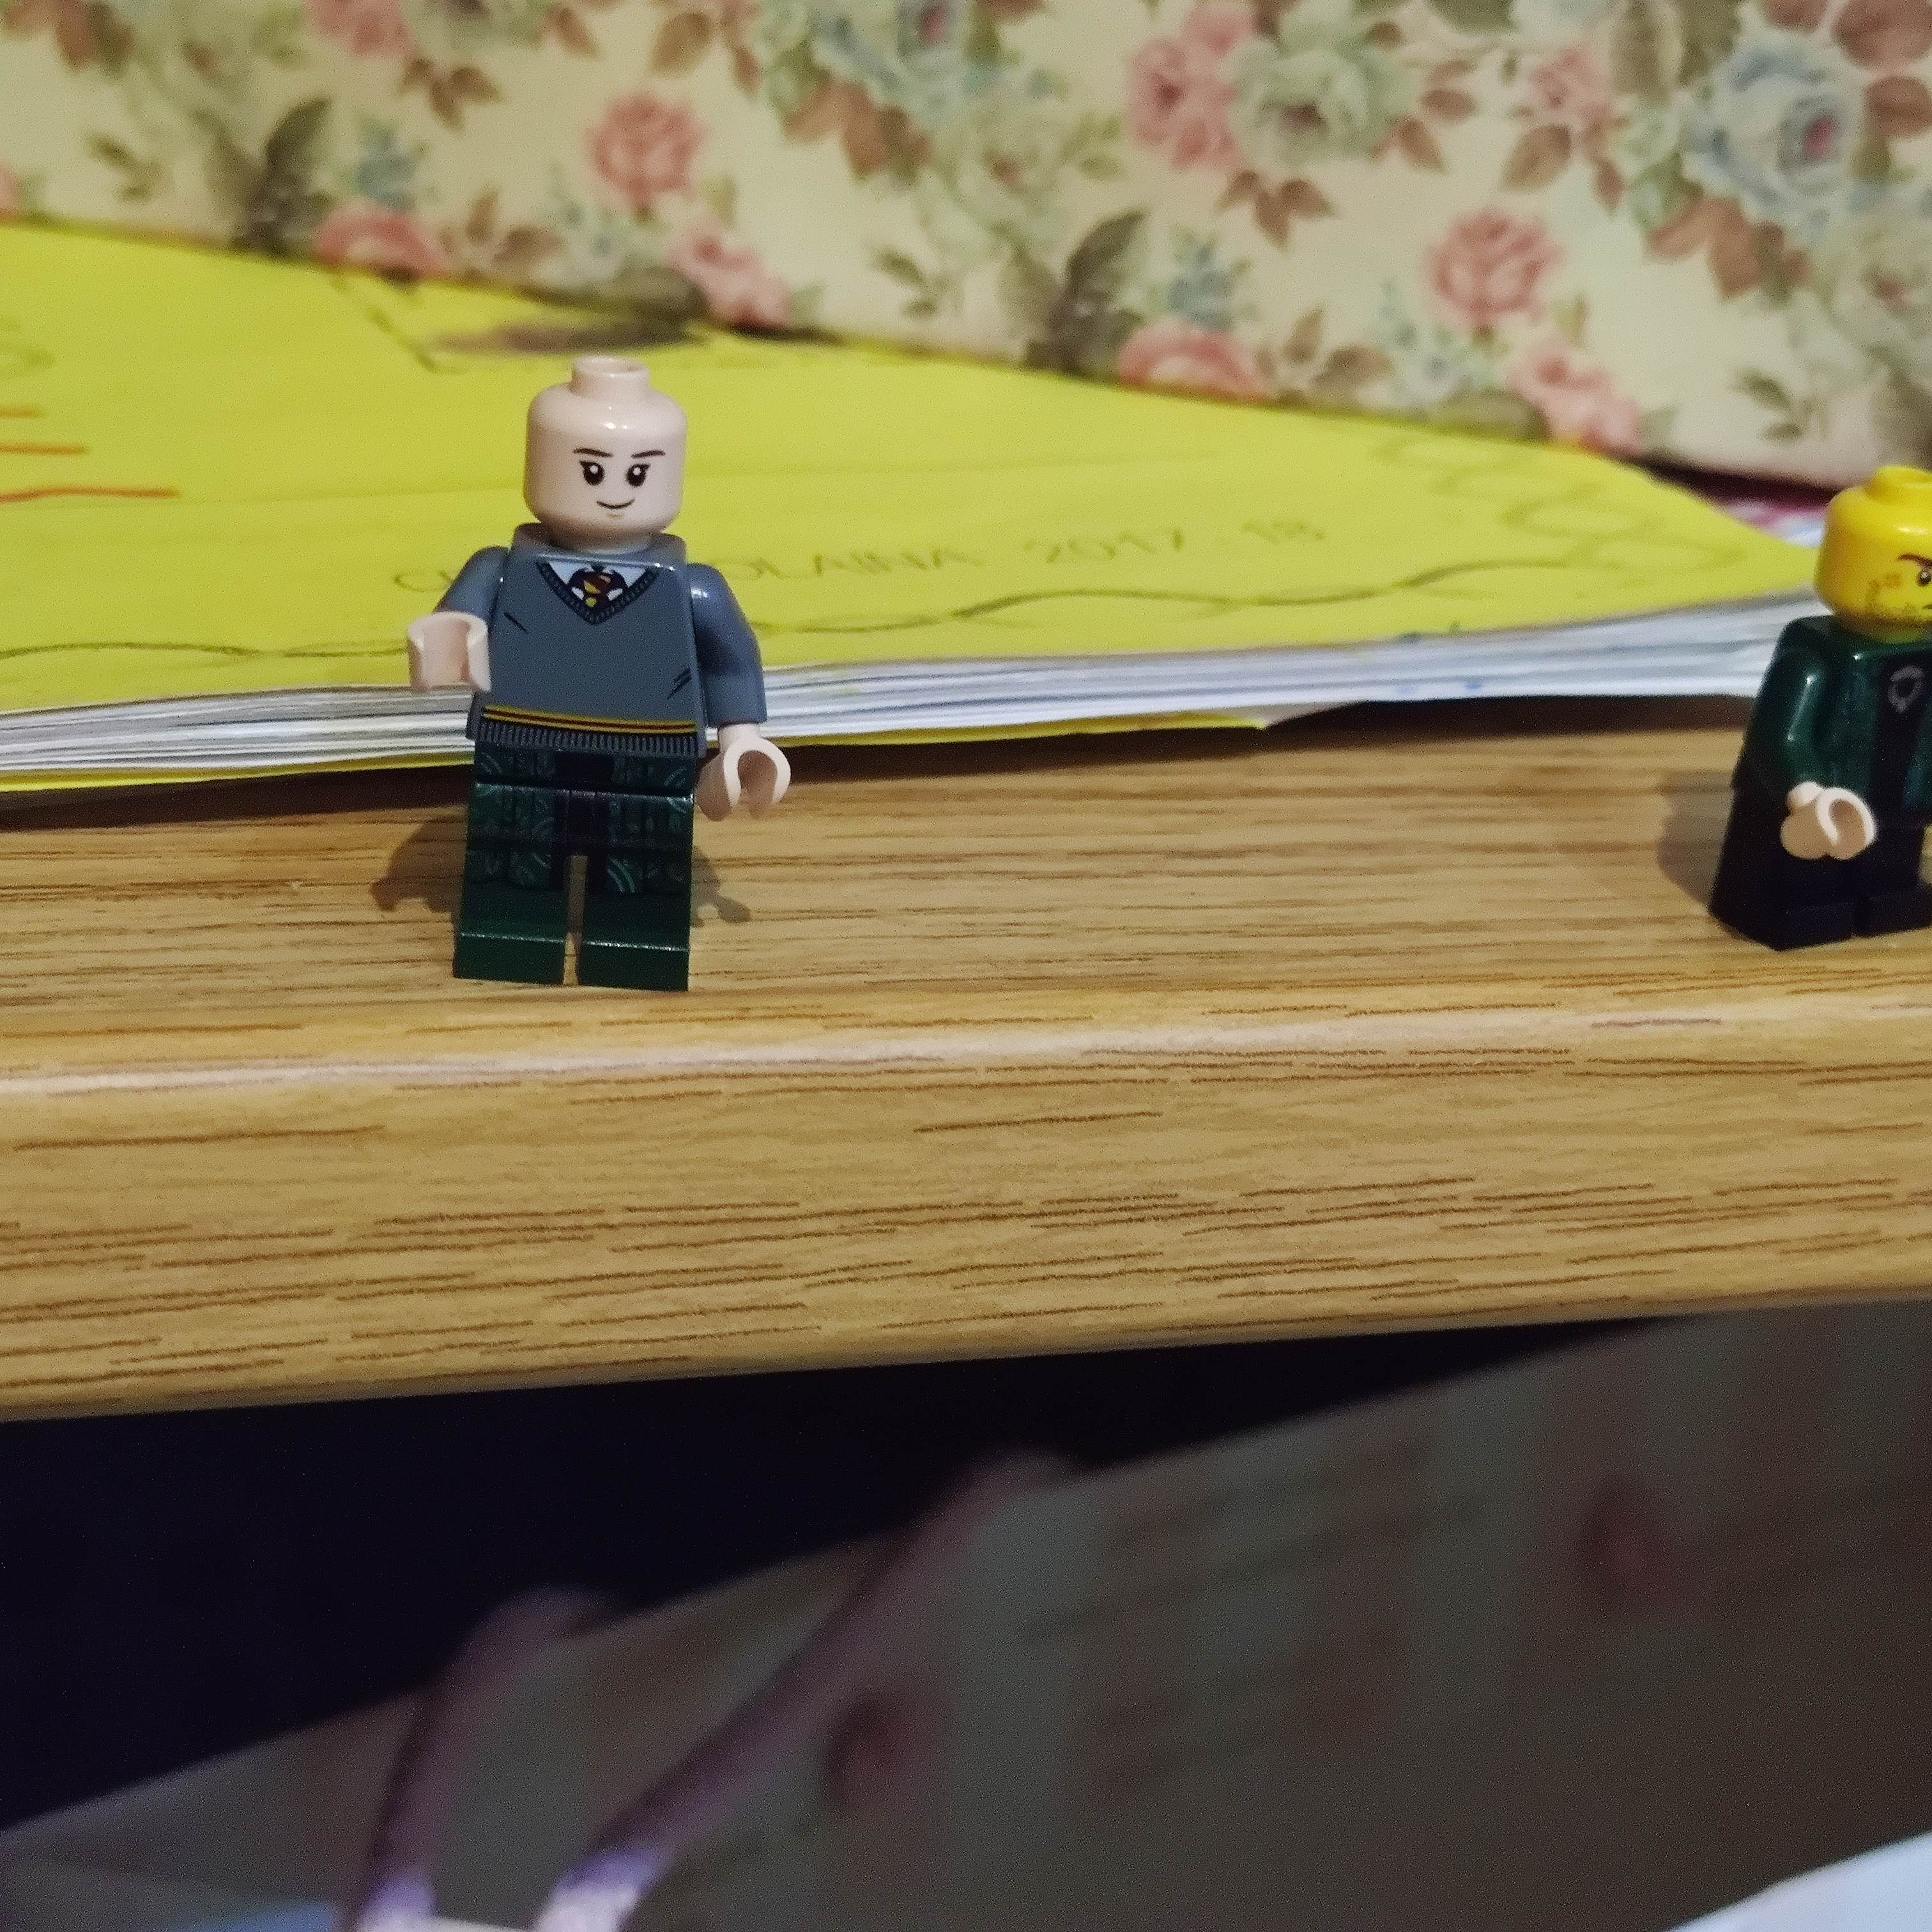lego: (395, 352, 807, 1007), (1707, 451, 1932, 945)
